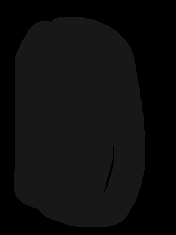fp: (15, 9, 145, 222)
